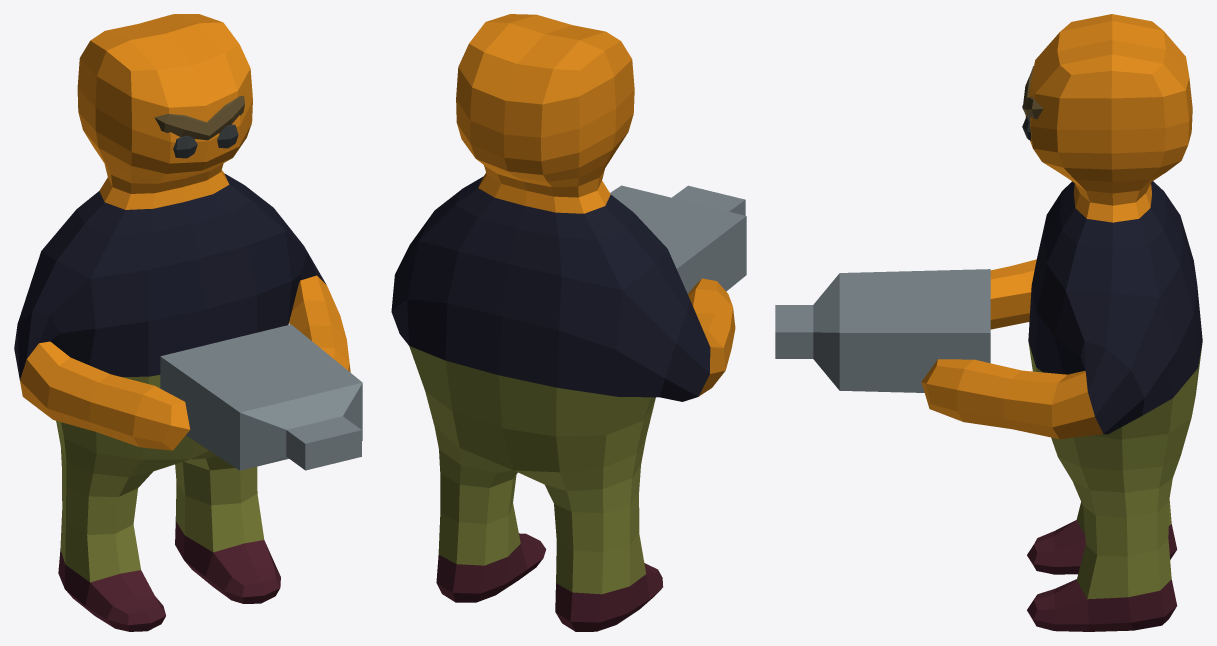
The model's file is EnemyArcher.fbx.
3 views of the same model, side by side, from view 1: azimuth 30°, elevation 25°; view 2: azimuth 150°, elevation 25°; view 3: azimuth 270°, elevation 25° (orthographic). The views are drawn at different scales.
Parts seen in each view (by area): view 1: Cube, Cube.001; view 2: Cube, Cube.001; view 3: Cube, Cube.001.
Boxes of the visible parts, bbox=[...] form: Cube: bbox=[14, 14, 350, 631]; Cube.001: bbox=[160, 324, 362, 470]; Cube: bbox=[391, 14, 735, 631]; Cube.001: bbox=[610, 185, 746, 293]; Cube: bbox=[921, 14, 1202, 631]; Cube.001: bbox=[775, 269, 990, 392].
Bounding box in the file's own units: 125 × 218 × 151.
